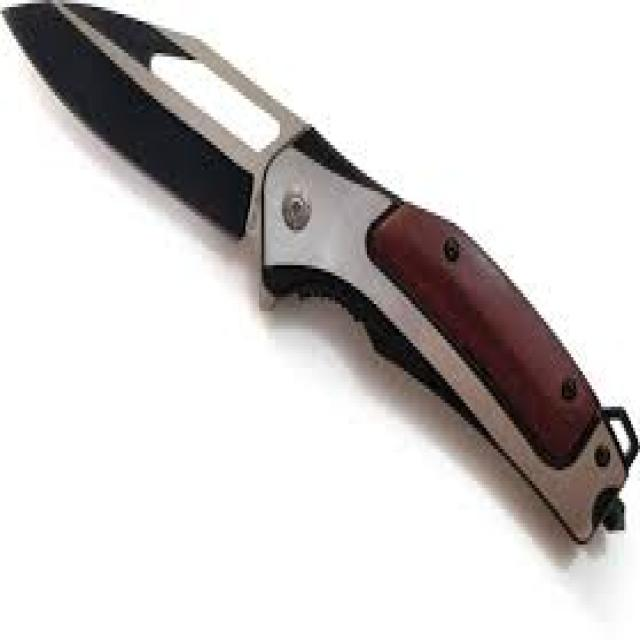knife: (1, 1, 639, 556)
